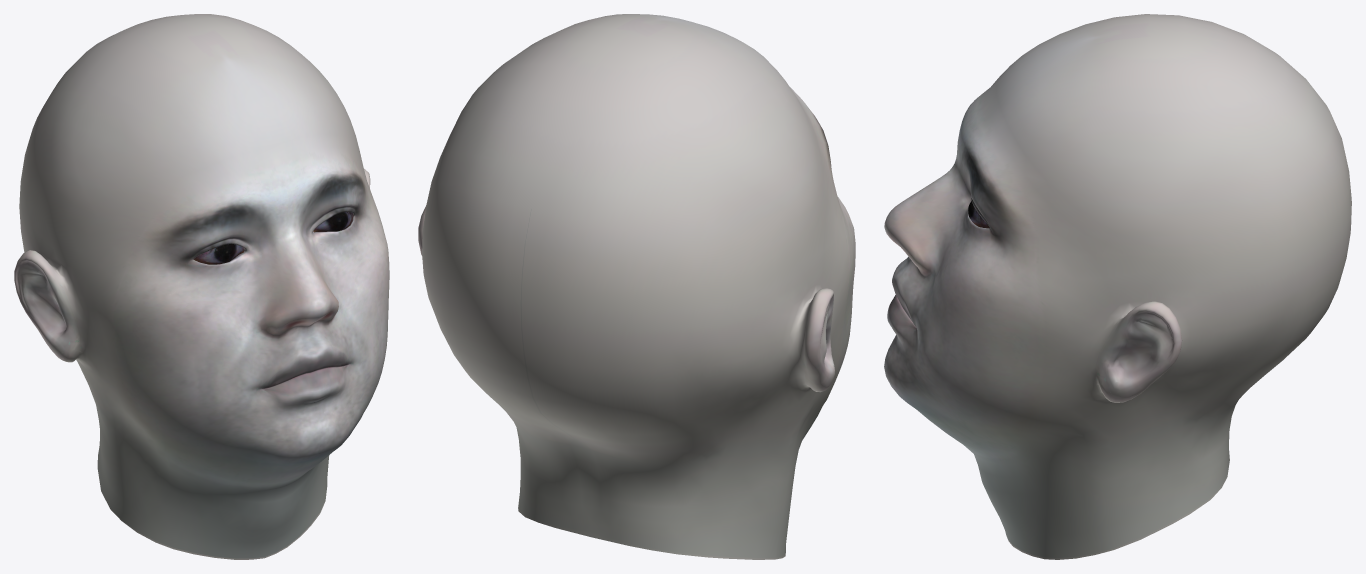
3 renders of one model, left to right at view 1: azimuth 30°, elevation 25°; view 2: azimuth 150°, elevation 25°; view 3: azimuth 270°, elevation 25°, orthographic. The views are drawn at different scales.
Visible parts, largest first — view 1: skin_hi, eyeR_hi, eyeL_hi; view 2: skin_hi; view 3: skin_hi.
Boxes of the visible parts, x1,y1,x2,y2 form: skin_hi: (14,14,389,559); eyeR_hi: (193,244,244,264); eyeL_hi: (313,212,353,232); skin_hi: (418,14,855,559); skin_hi: (884,14,1351,559).
Bounding box in the file's own units: 214 × 281 × 234.
